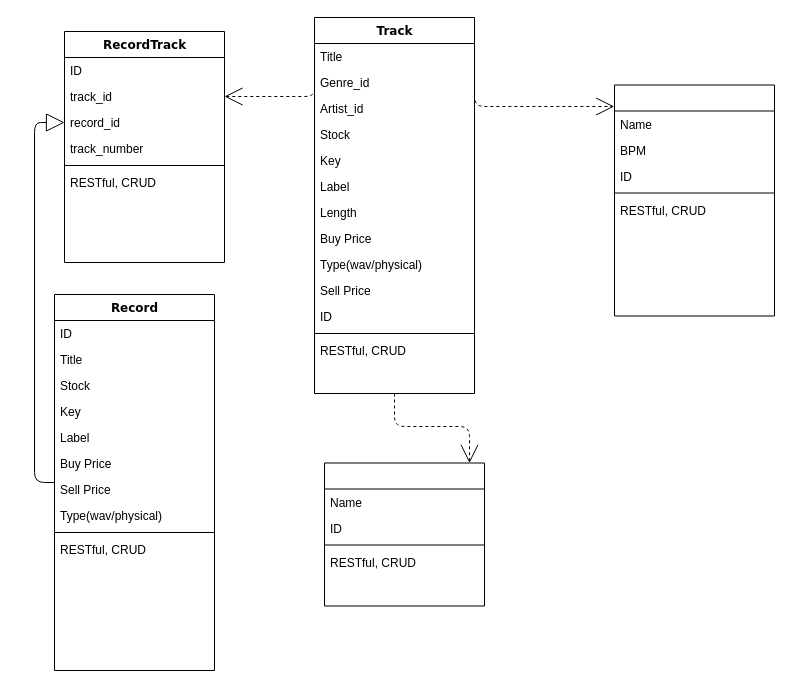
Some shapes in this 792 by 688 pixel diagram are drawn without their labels. The box of each missing label's shape, as (x1, y1, x2, y2) in pixels:
Artist: (324, 462, 484, 606)
Genre: (614, 84, 774, 316)
